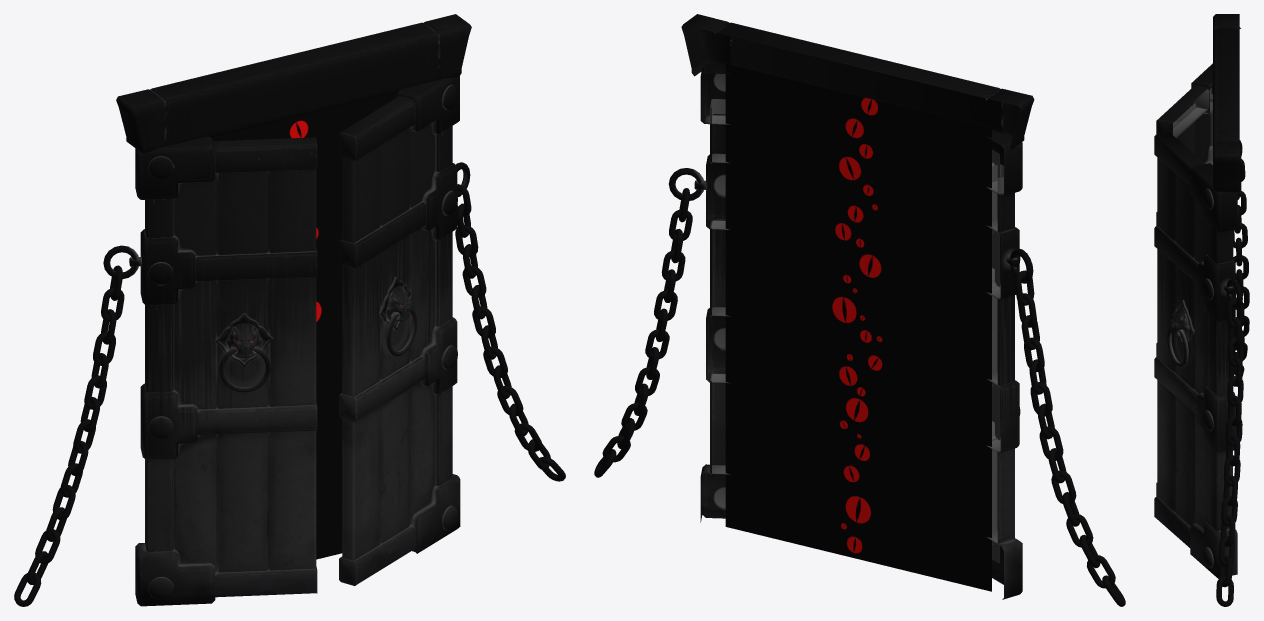
Rendered from BossDoor.fbx.
The picture shows the model from 3 angles, left to right: view 1: azimuth 30°, elevation 25°; view 2: azimuth 150°, elevation 25°; view 3: azimuth 270°, elevation 25°; orthographic projection. The views are drawn at different scales.
Visible parts, largest first — view 1: Door; view 2: Door; view 3: Door.
Boxes of the visible parts, left/top/right/bottom form: Door: left=14, top=14, right=565, bottom=606; Door: left=594, top=14, right=1125, bottom=606; Door: left=1154, top=14, right=1249, bottom=606.
Bounding box in the file's own units: 5020 × 4470 × 901.
